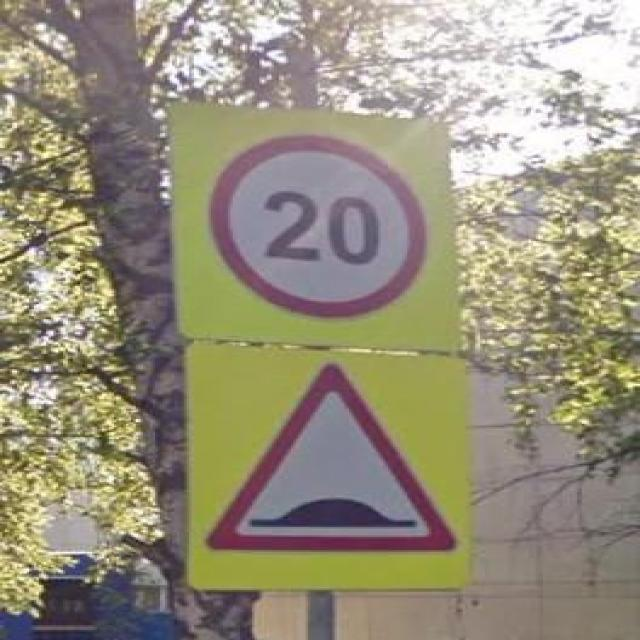Ograniczenie predkosci do 20: (209, 133, 429, 319)
